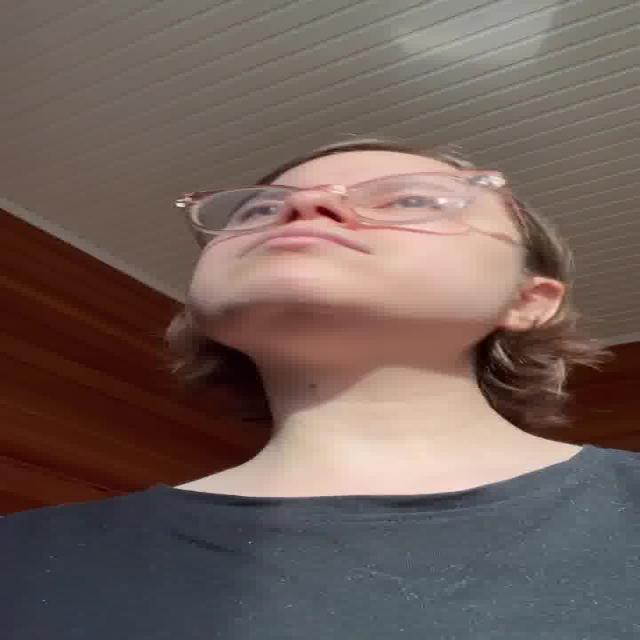earlobe: (498, 277, 566, 334)
